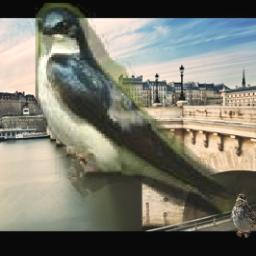Sparrow: (232, 194, 256, 239)
Swallow: (34, 4, 235, 220)
